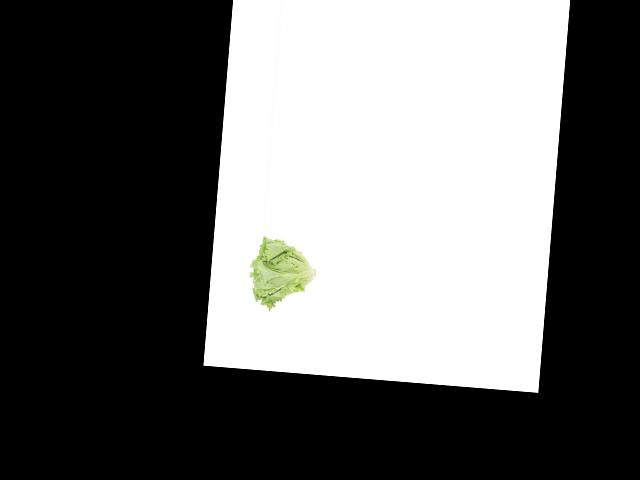lettuce: (244, 234, 320, 310)
